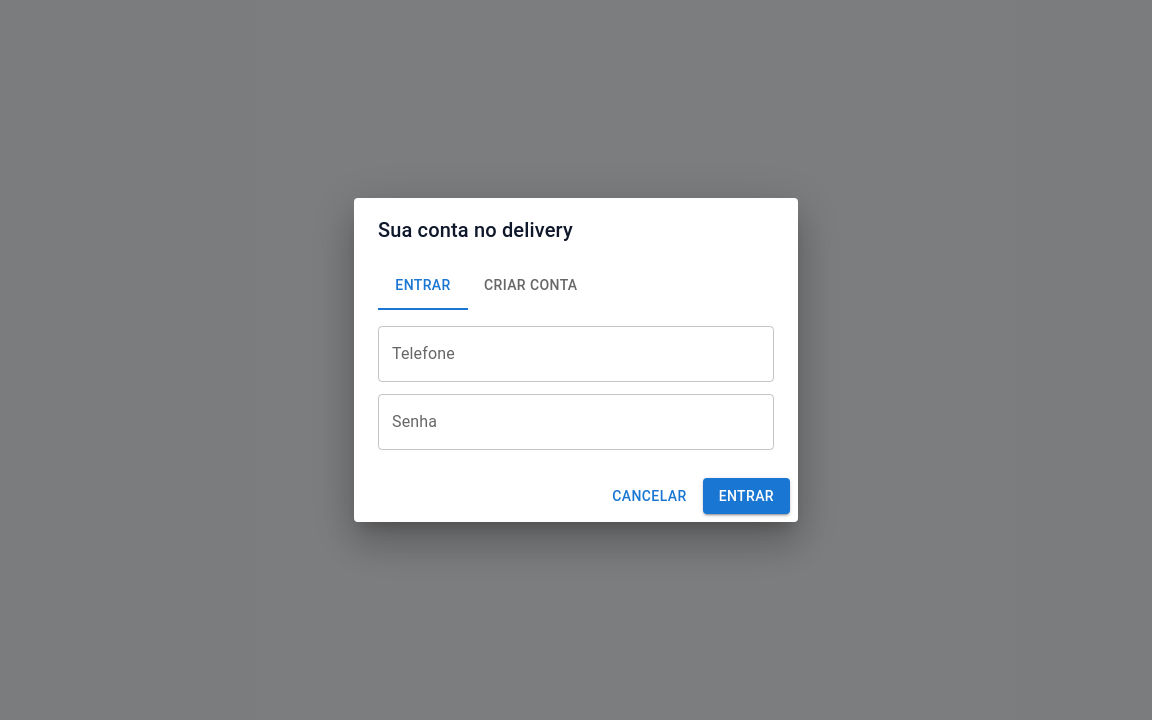
Test: criação de conta do delivery › exige senhas iguais e não pede e-mail
Click the tab "Criar conta" at (531, 286), box [468, 262, 594, 310]
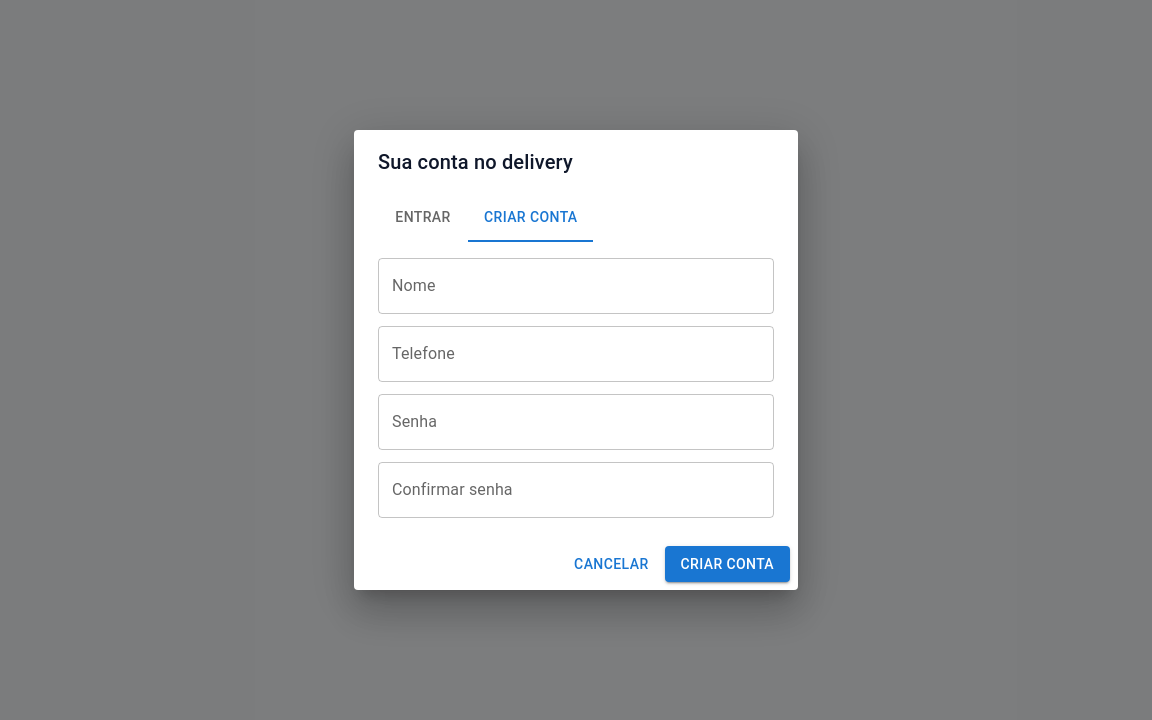
Type "Ana" into the field labelled "Nome" at (576, 286), box [378, 258, 774, 314]
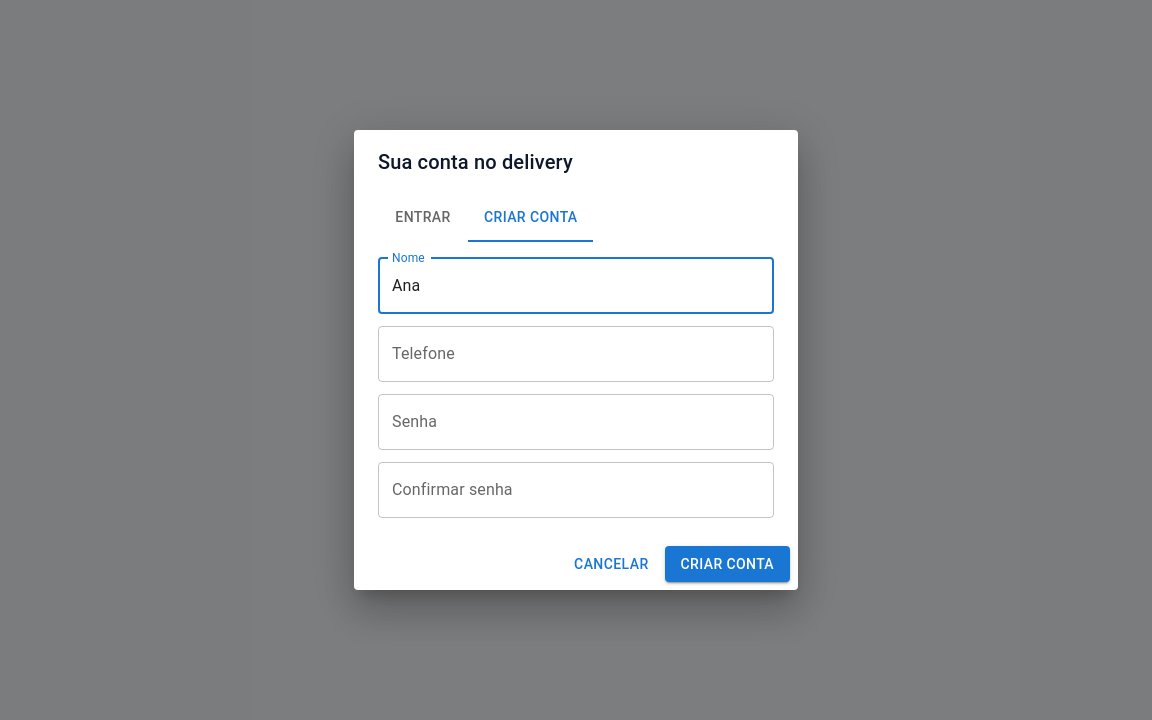
Type "11988887777" into the field labelled "Telefone" at (576, 354), box [378, 326, 774, 382]
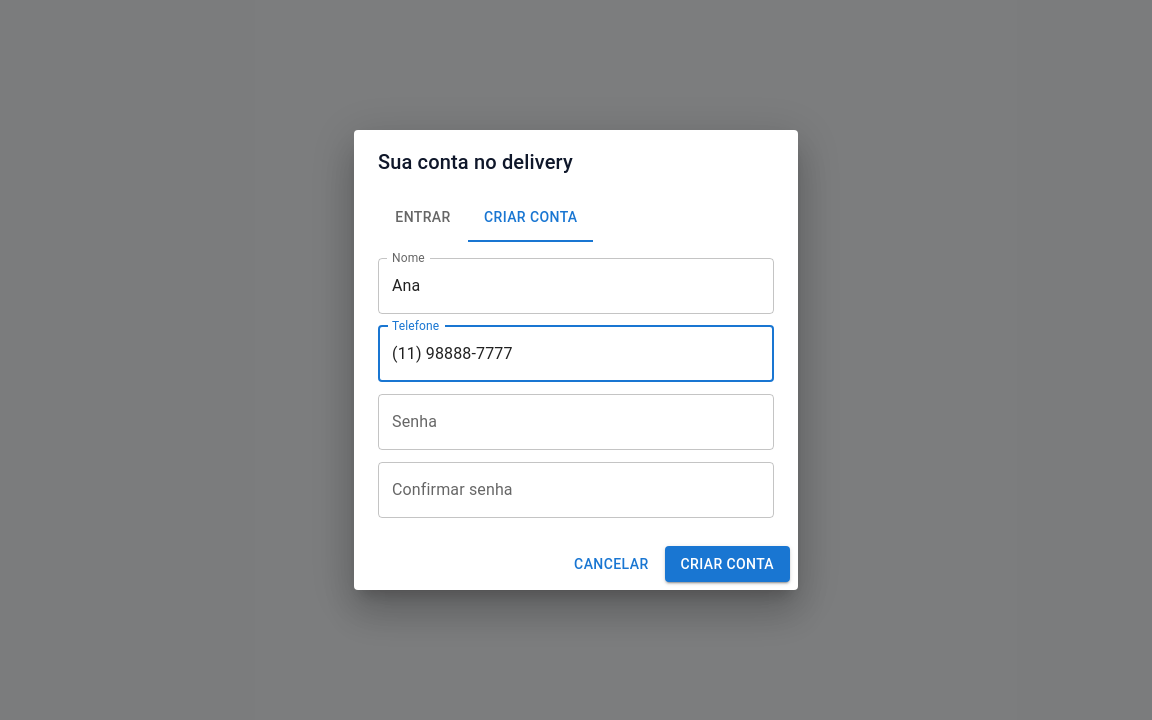
Type "secret1" into the password field labelled "Senha" at (576, 422), box [378, 394, 774, 450]
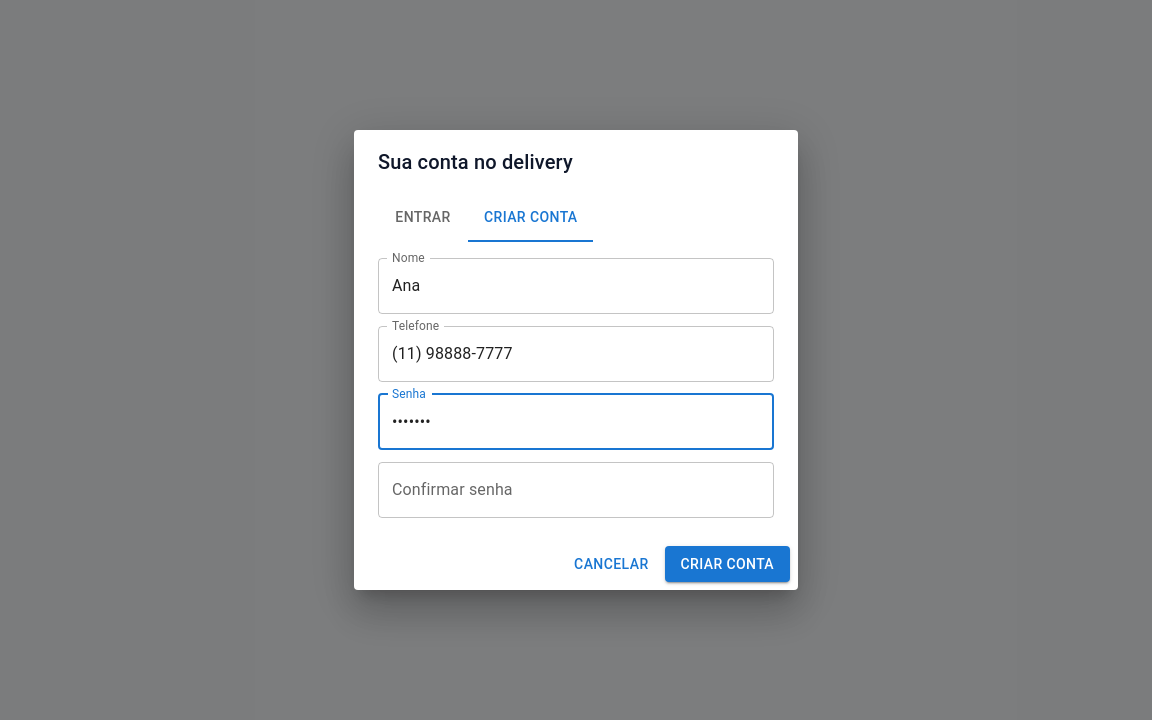
Type "secret2" into the password field labelled "Confirmar senha" at (576, 490), box [378, 462, 774, 518]
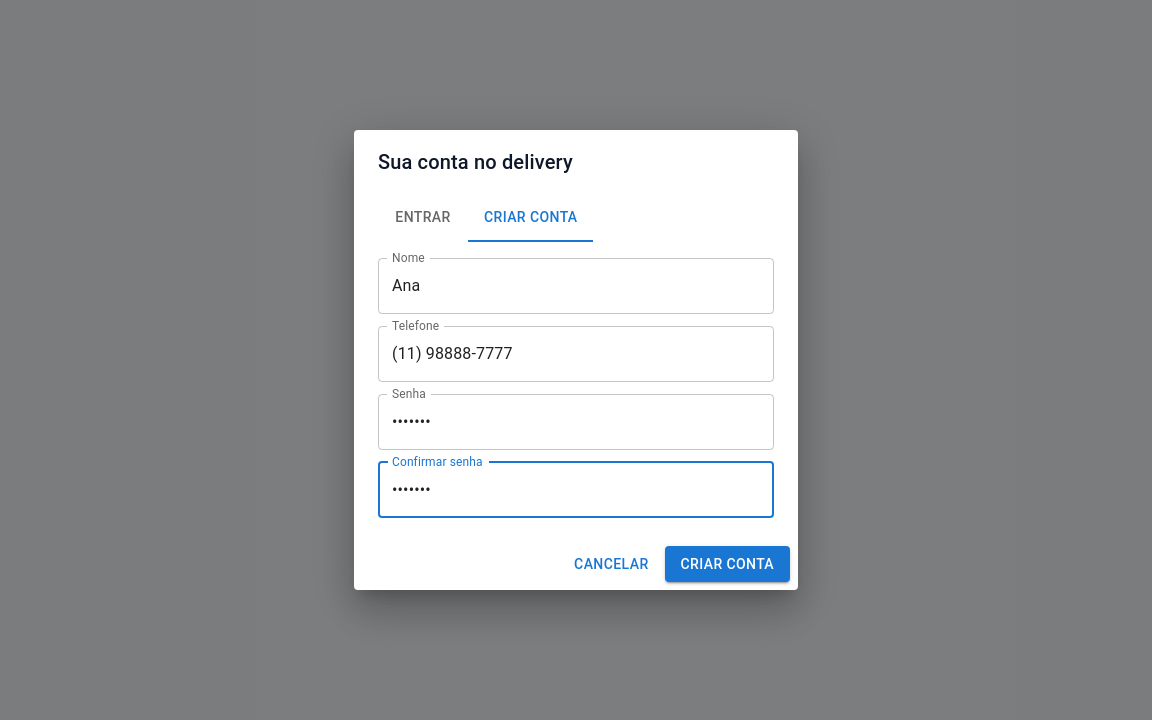
Click the button "Criar conta" at (727, 564), box [664, 546, 790, 582]
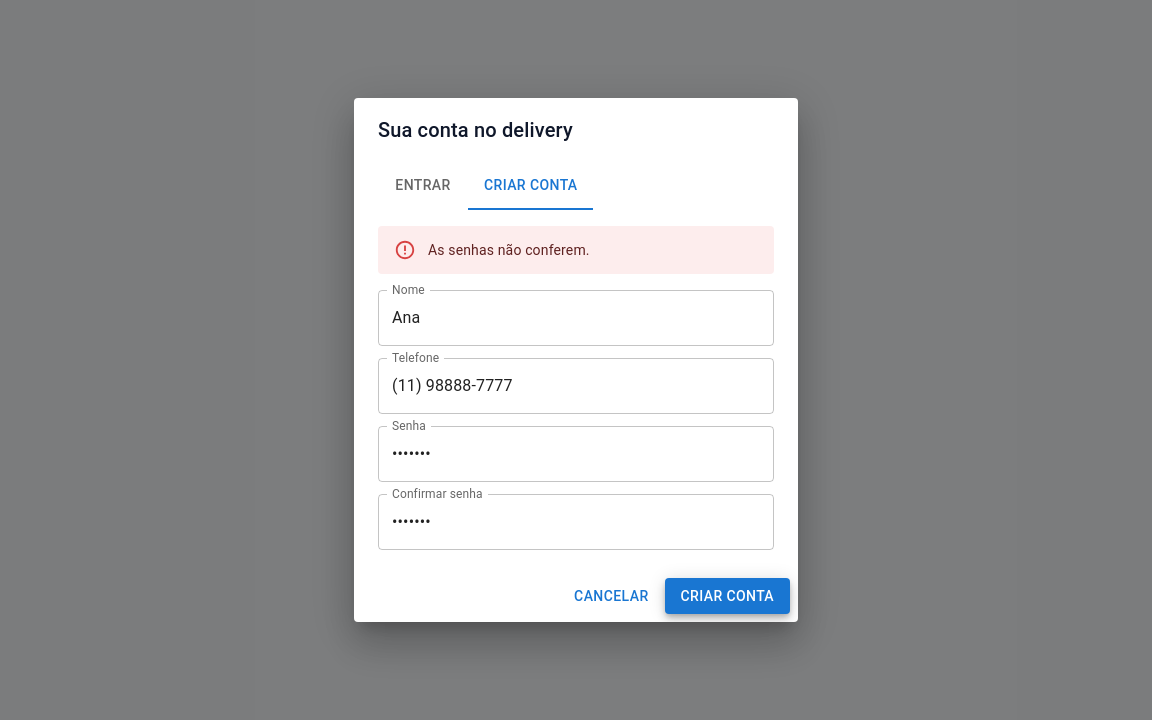
Expected: the text "As senhas não conferem." is shown, [428, 242, 590, 258]
